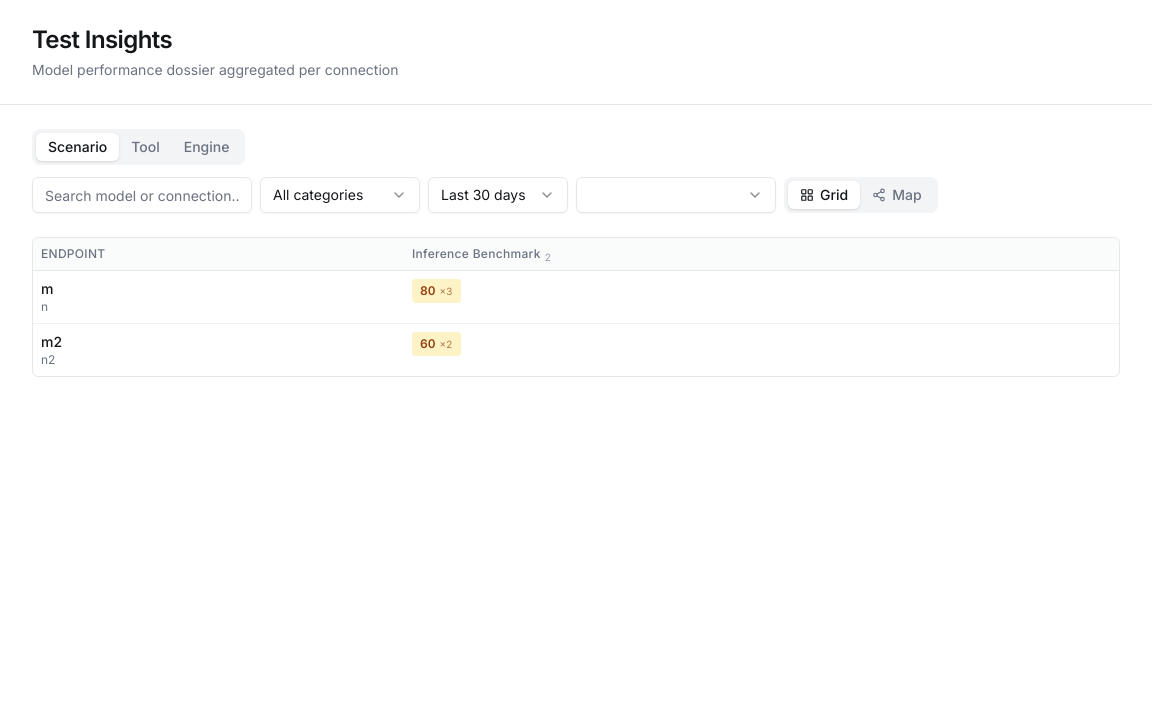
Scenario: InsightsMatrixPage › excludes scored points without a native-metric latency and notes their count, in a mixed dimension
Expected: the link "m" is shown, [41,280,53,297]
Click the button "Inference Benchmark".
click(476, 254)  # box [412,246,541,262]
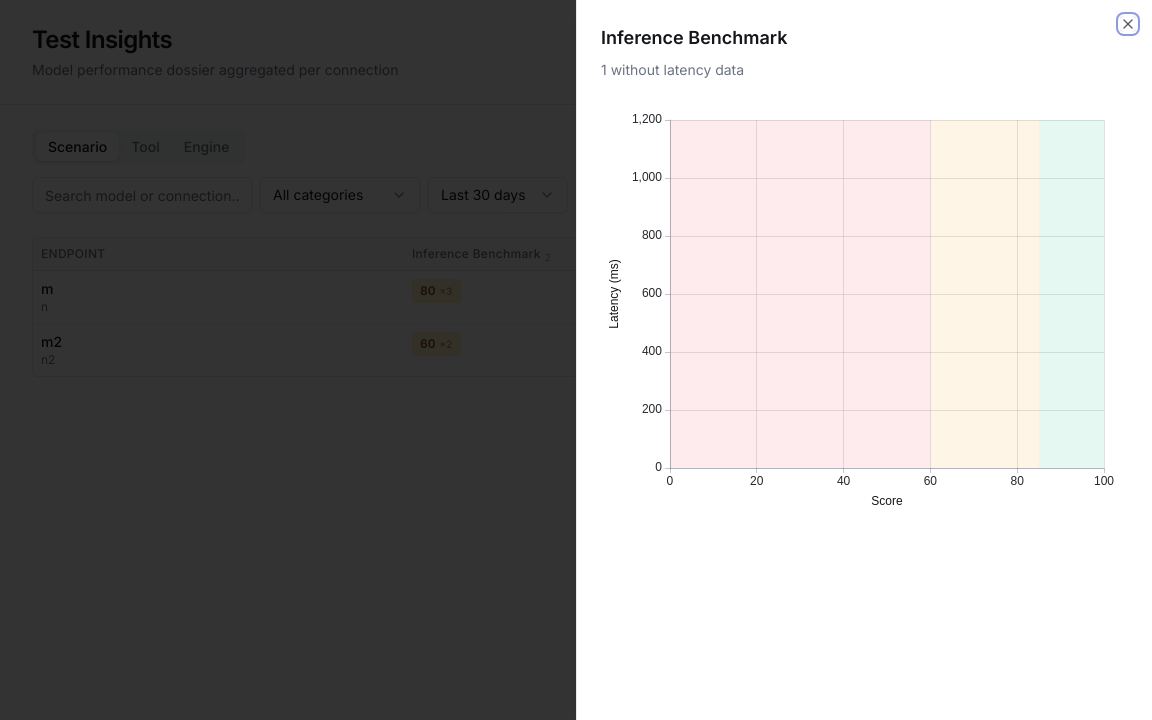
Now the dialog with test id "scatter-panel" is shown, box [576,0,1151,719]
Now the heading "Inference Benchmark" is shown, box [601,27,788,48]
Now the text "1 without latency data" is shown, box [601,61,744,78]
